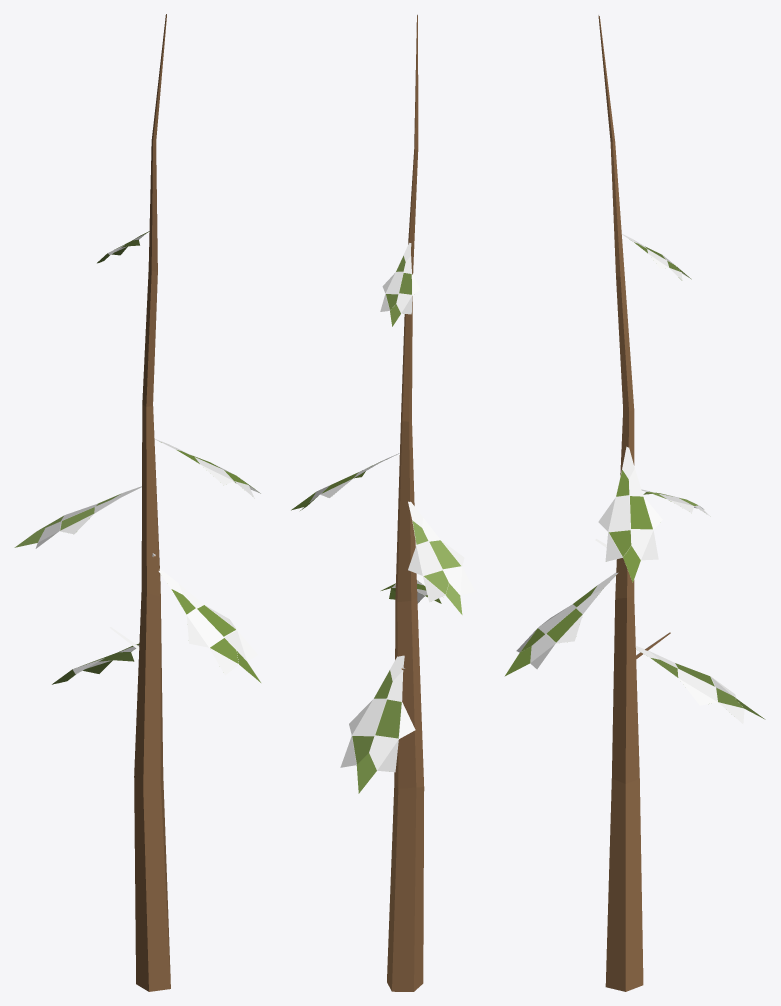
The model's file is Dead_Pine_Tree_l_Snow_04_LOD.fbx.
3 views of the same model, side by side, from view 1: azimuth 30°, elevation 25°; view 2: azimuth 150°, elevation 25°; view 3: azimuth 270°, elevation 25° (orthographic).
Visible parts, largest first — view 1: Dead_Pine_Tree_l_Snow_04_LOD0; view 2: Dead_Pine_Tree_l_Snow_04_LOD0; view 3: Dead_Pine_Tree_l_Snow_04_LOD0.
Boxes of the visible parts, bbox=[...] form: Dead_Pine_Tree_l_Snow_04_LOD0: bbox=[14, 14, 260, 991]; Dead_Pine_Tree_l_Snow_04_LOD0: bbox=[291, 14, 475, 991]; Dead_Pine_Tree_l_Snow_04_LOD0: bbox=[504, 14, 765, 991].
Size of what is drawn, in the model's own units: 420 by 1861 by 457.
